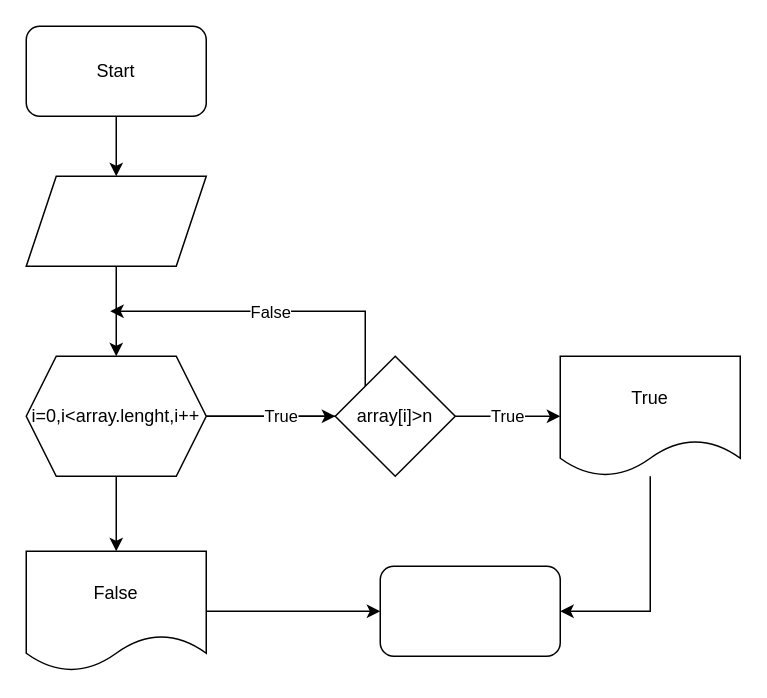
Some shapes in this 767 by 698 pixel diagram are drawn without their labels. Each missing label, with the box of its shape:
array n: (25, 175, 206, 266)
End: (379, 565, 560, 656)
